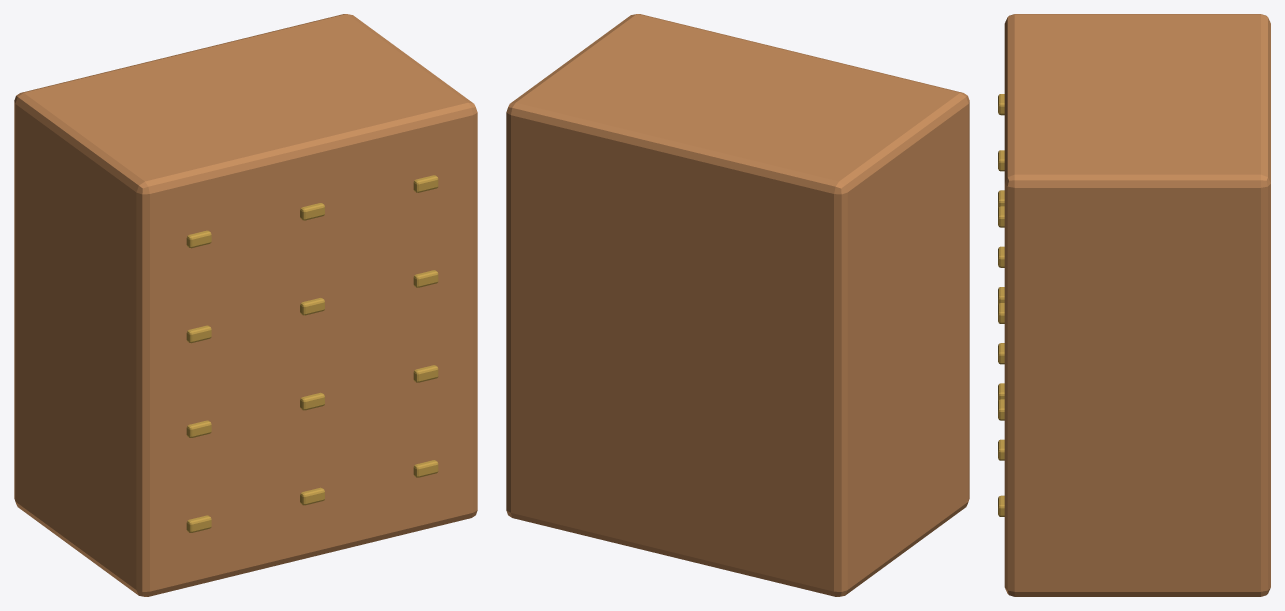
The model's file is parts_drawer_unit.glb.
3 renders of one model, left to right at view 1: azimuth 30°, elevation 25°; view 2: azimuth 150°, elevation 25°; view 3: azimuth 270°, elevation 25°, orthographic.
Parts seen in each view (by area): view 1: parts_drawer_unit; view 2: parts_drawer_unit; view 3: parts_drawer_unit.
Boxes of the visible parts, x1,y1,x2,y2 form: parts_drawer_unit: [14, 14, 477, 596]; parts_drawer_unit: [506, 14, 969, 596]; parts_drawer_unit: [998, 14, 1270, 596].
Size of the model in its own units: 0.6 by 0.7 by 0.41.
